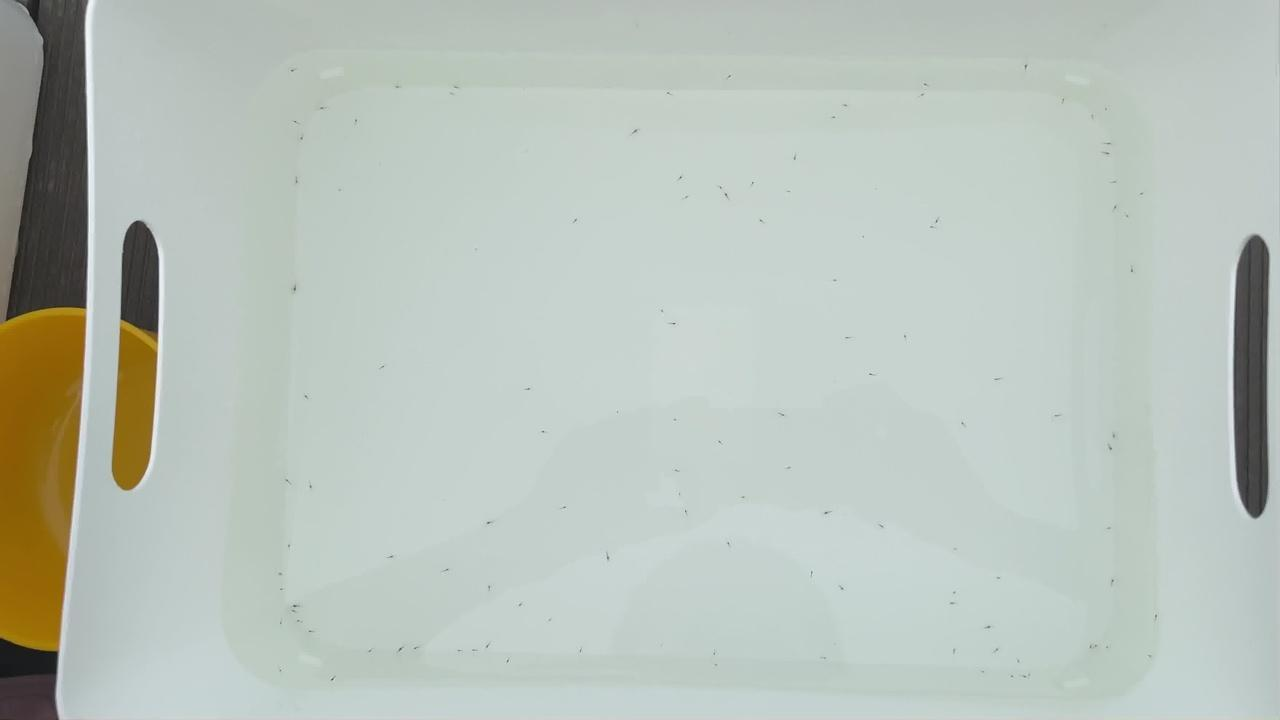shrimp: (301, 395, 313, 403), (375, 364, 387, 372), (289, 287, 301, 295), (292, 177, 304, 185), (297, 136, 309, 144), (288, 118, 300, 126), (287, 67, 299, 75), (318, 105, 330, 113), (352, 116, 364, 124), (393, 86, 405, 94), (447, 92, 459, 100), (452, 83, 464, 91), (629, 130, 641, 138), (664, 90, 676, 98), (724, 75, 736, 83), (826, 115, 838, 123), (840, 102, 852, 110), (917, 92, 929, 100), (921, 83, 933, 91), (1022, 63, 1034, 71), (1058, 98, 1070, 106), (1086, 115, 1098, 123), (1104, 140, 1116, 148), (1101, 149, 1113, 157), (1109, 176, 1121, 184), (1108, 206, 1120, 214), (1121, 213, 1133, 221), (1139, 189, 1151, 197), (1126, 269, 1138, 277), (931, 218, 943, 226), (926, 225, 938, 233), (790, 155, 802, 163), (784, 187, 796, 195), (759, 217, 771, 225), (747, 180, 759, 188), (722, 193, 734, 201), (713, 182, 725, 190), (680, 194, 692, 202), (676, 175, 688, 183), (568, 218, 580, 226), (654, 308, 666, 316), (670, 321, 682, 329), (829, 277, 841, 285), (859, 234, 871, 242), (897, 333, 909, 341), (866, 373, 878, 381), (840, 335, 852, 343), (959, 419, 971, 427), (993, 375, 1005, 383), (1055, 411, 1067, 419), (1103, 445, 1115, 453), (1107, 429, 1119, 437), (1104, 523, 1116, 531), (1104, 580, 1116, 588), (1149, 614, 1161, 622), (1146, 651, 1158, 659), (1103, 646, 1115, 654), (1091, 643, 1103, 651), (1086, 645, 1098, 653), (1021, 674, 1033, 682), (1005, 674, 1017, 682), (1013, 658, 1025, 666), (977, 670, 989, 678), (991, 647, 1003, 655), (982, 623, 994, 631), (993, 574, 1005, 582), (951, 547, 963, 555), (950, 590, 962, 598), (949, 601, 961, 609), (950, 648, 962, 656), (837, 585, 849, 593), (876, 522, 888, 530), (822, 509, 834, 517), (807, 571, 819, 579), (821, 652, 833, 660), (712, 664, 724, 672), (710, 649, 722, 657), (723, 543, 735, 551), (738, 495, 750, 503), (783, 465, 795, 473), (779, 413, 791, 421), (716, 438, 728, 446), (669, 416, 681, 424), (673, 468, 685, 476), (675, 488, 687, 496), (681, 508, 693, 516), (604, 556, 616, 564), (577, 647, 589, 655), (546, 618, 558, 626), (514, 602, 526, 610), (484, 581, 496, 589), (440, 567, 452, 575), (482, 642, 494, 650), (502, 659, 514, 667), (469, 647, 481, 655), (455, 649, 467, 657), (412, 644, 424, 652), (396, 645, 408, 653), (367, 647, 379, 655), (326, 676, 338, 684), (275, 669, 287, 677), (305, 629, 317, 637), (275, 620, 287, 628), (293, 618, 305, 626), (286, 608, 298, 616), (289, 603, 301, 611), (275, 586, 287, 594), (273, 570, 285, 578), (282, 543, 294, 551), (386, 552, 398, 560), (485, 520, 497, 528), (560, 503, 572, 511), (540, 431, 552, 439), (523, 383, 535, 391), (307, 484, 319, 492), (283, 478, 295, 486)
